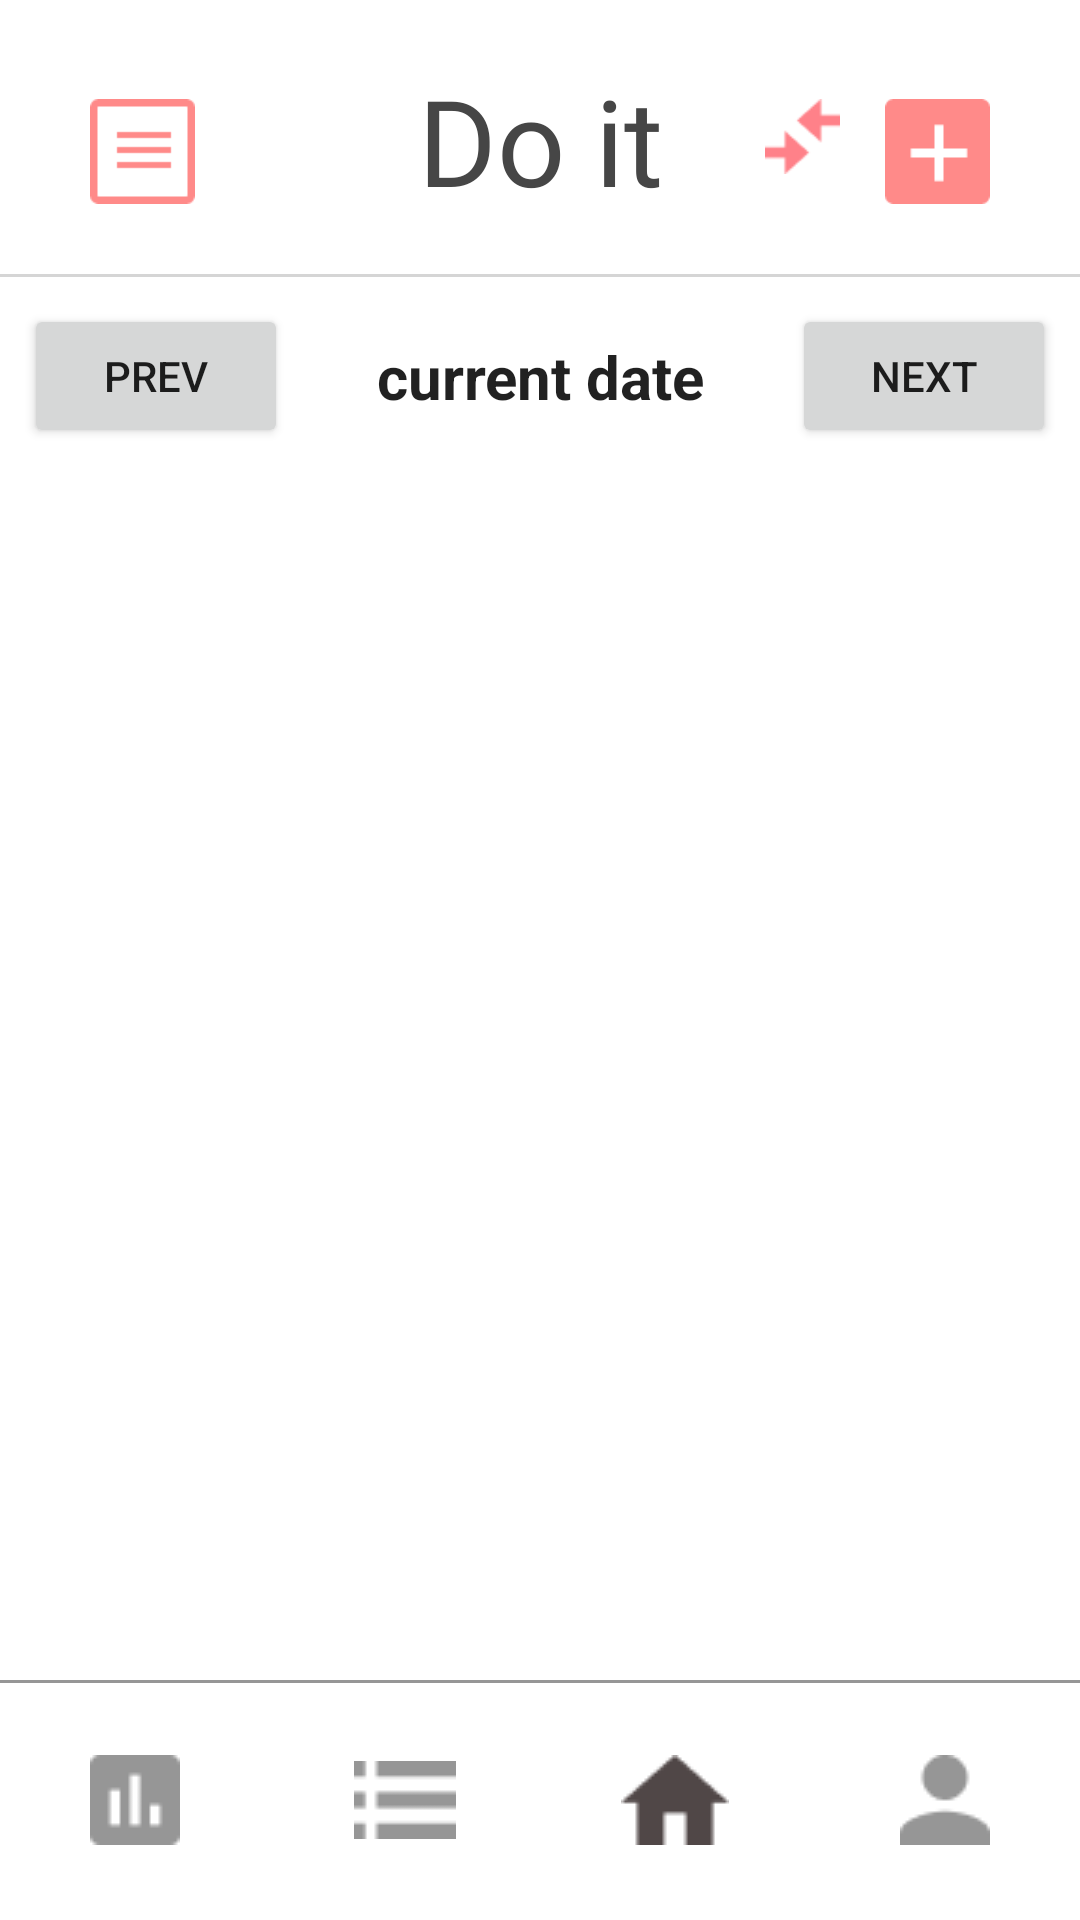

Where icons sit on this 1080 × 1920 app screen, as (x1, y1, x2, y2):
grap tab: (90, 1755, 180, 1845)
home tab: (621, 1755, 729, 1845)
list tab: (354, 1761, 456, 1839)
week change: (765, 99, 840, 174)
